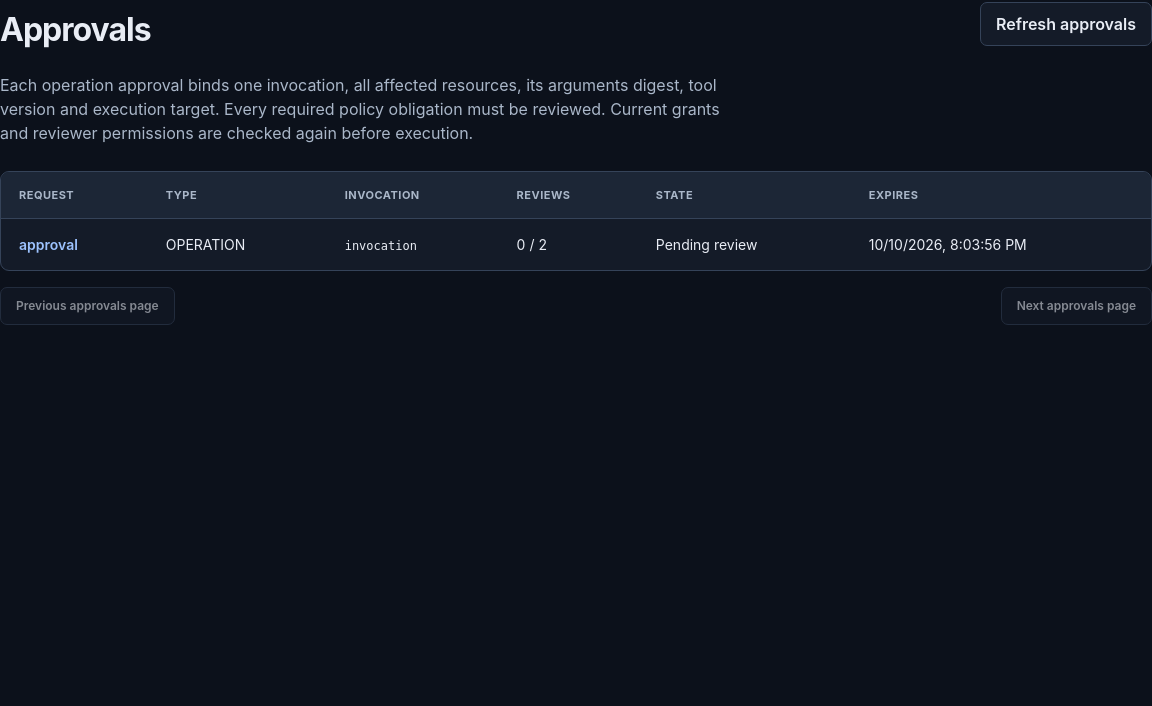
Scenario: shows every affected resource, exact target and digests as text before enabling review
Click the button with aria-label "Review approval approval" at (48, 245), box [19, 234, 78, 255]
(page scrolled)
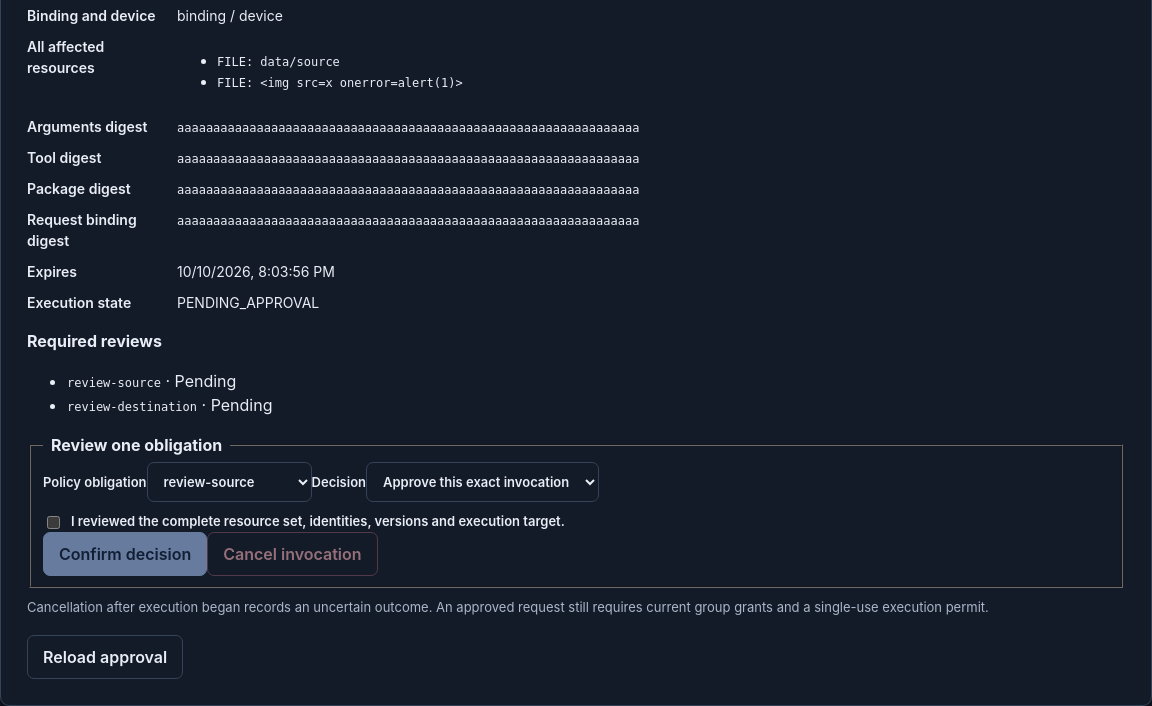
Check: the text "FILE: data/source" is shown, box [217, 55, 340, 69]
Check: the text "FILE: <img src=x onerror=alert(1)>" is shown, box [217, 76, 463, 90]
Check: the text "binding / device" is shown, box [177, 7, 283, 24]
